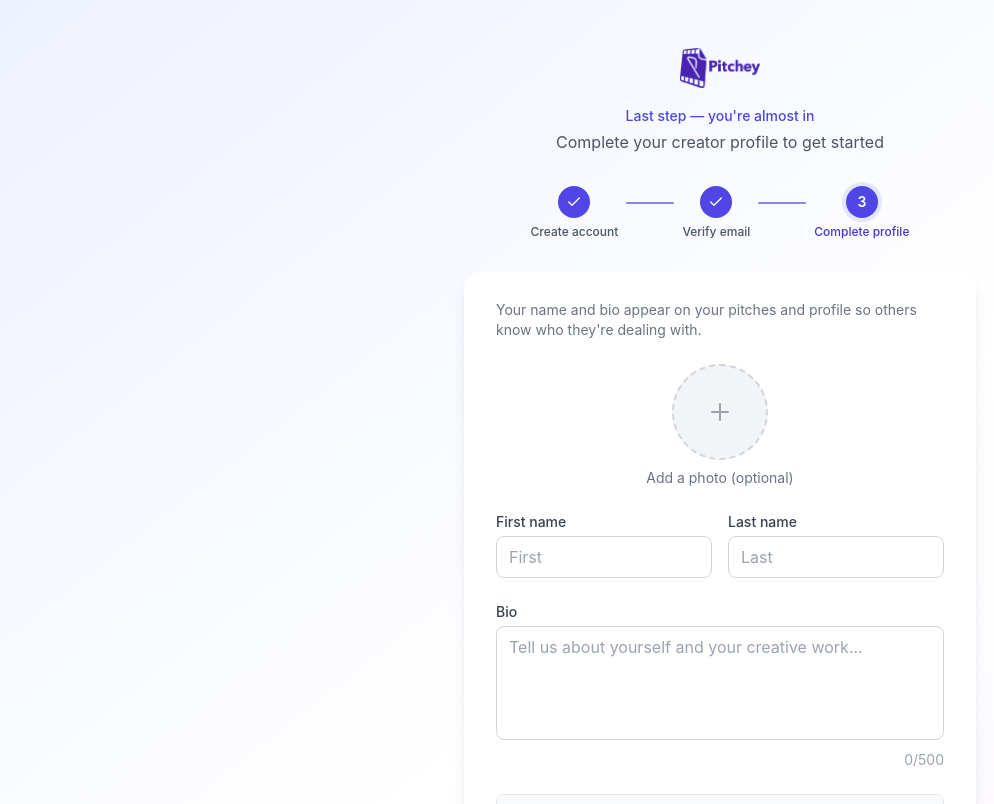
CreatorOnboardingPage (OnboardingPage) › Error state › shows error message when profile update fails
Type "Jane" into the field labelled "First name" at [604, 557], box top-left (496, 536), bottom-right (712, 578)
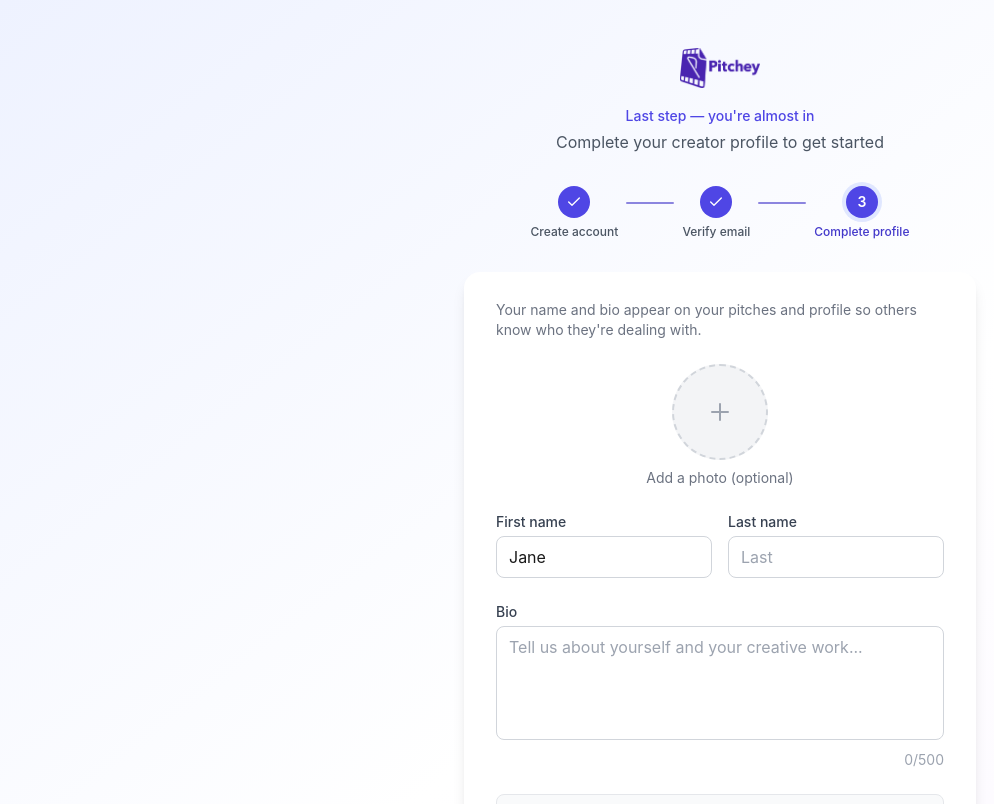
Type "Smith" into the field labelled "Last name" at [836, 557], box top-left (728, 536), bottom-right (944, 578)
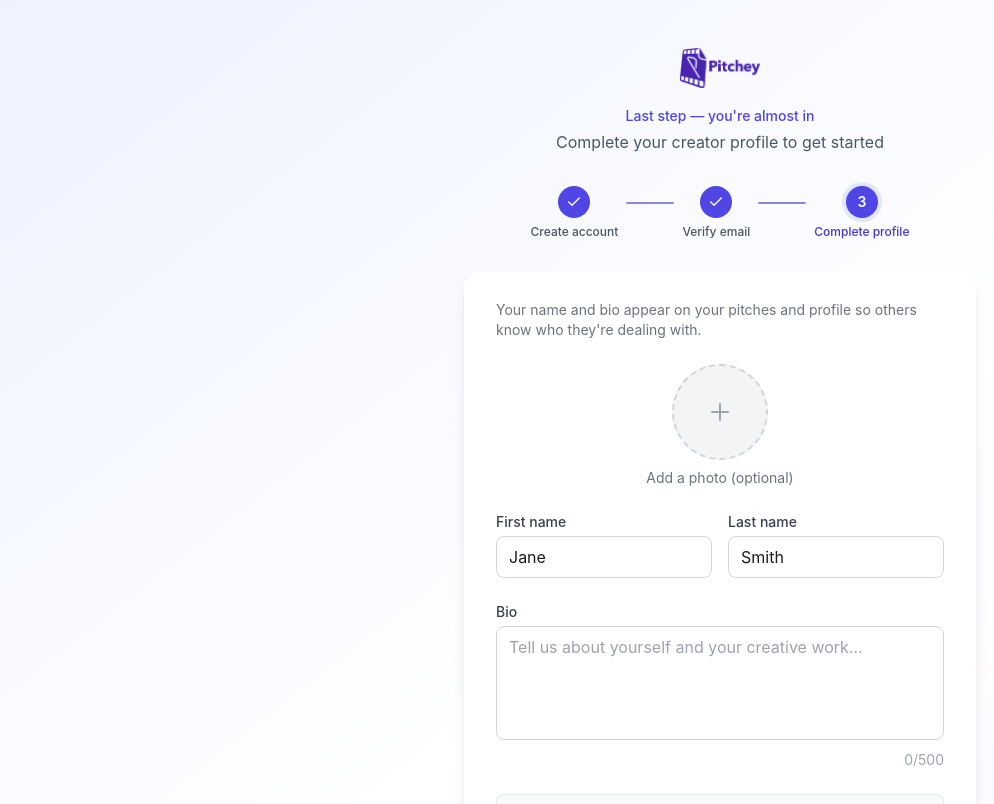
Type "Experienced director." into the text box labelled "Bio" at [720, 683], box top-left (496, 626), bottom-right (944, 740)
(page scrolled)
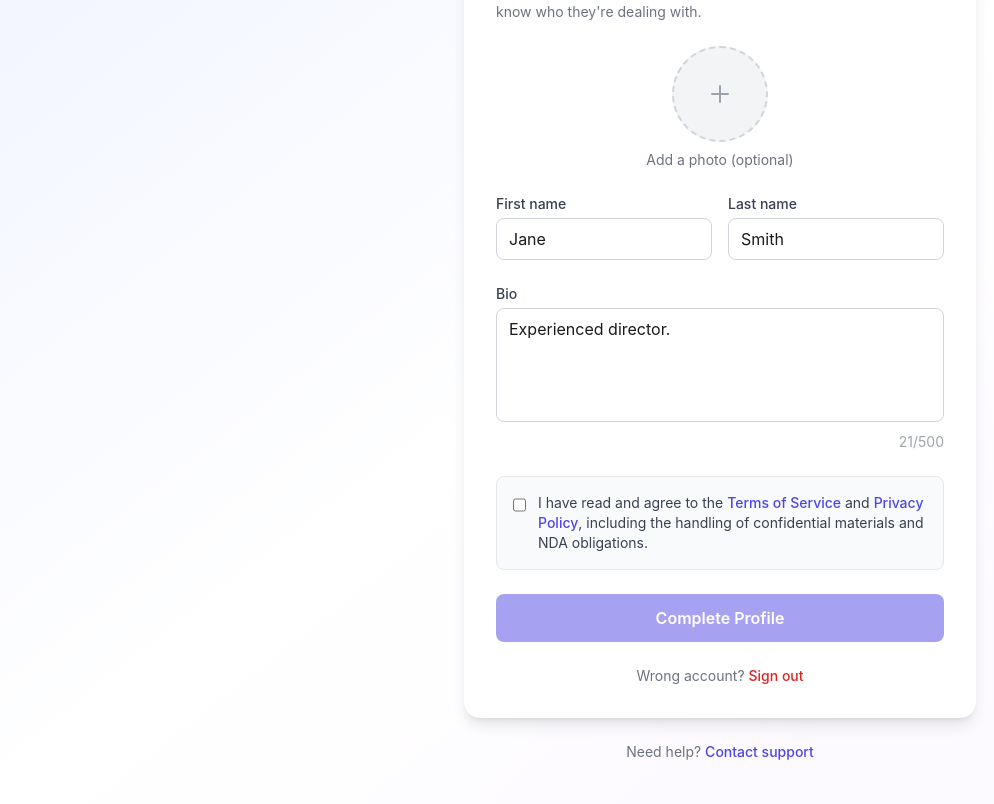
Click the checkbox at [520, 505], box top-left (513, 495), bottom-right (526, 515)
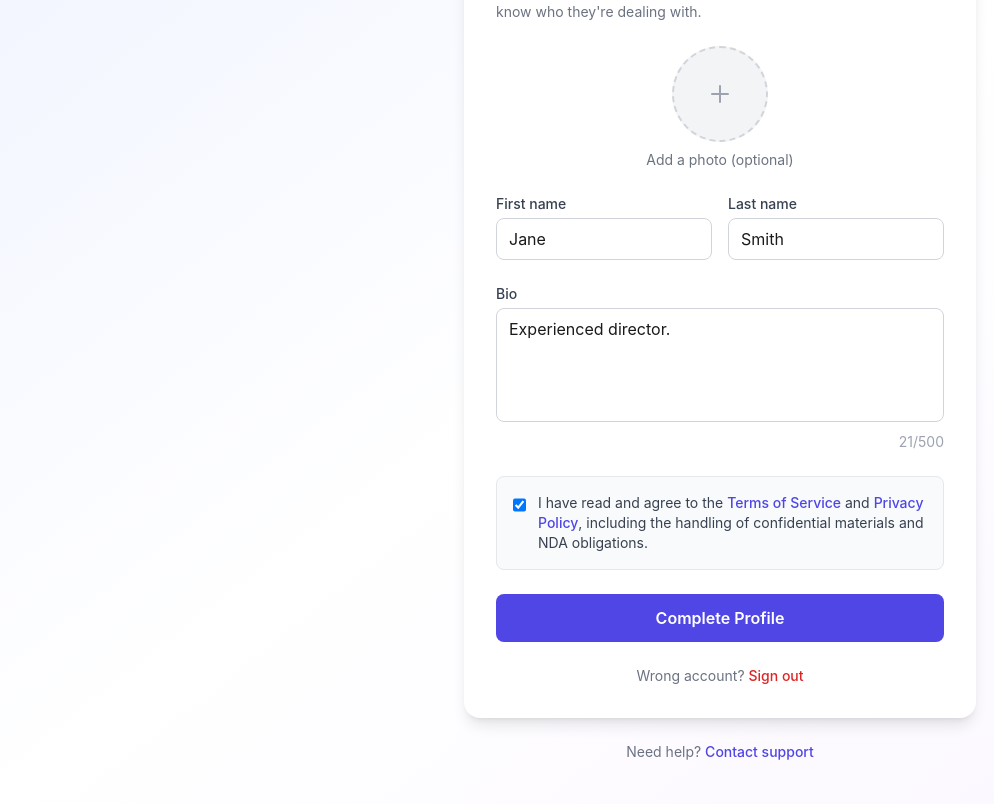
Click the button "Complete Profile" at [720, 618], box top-left (496, 594), bottom-right (944, 642)
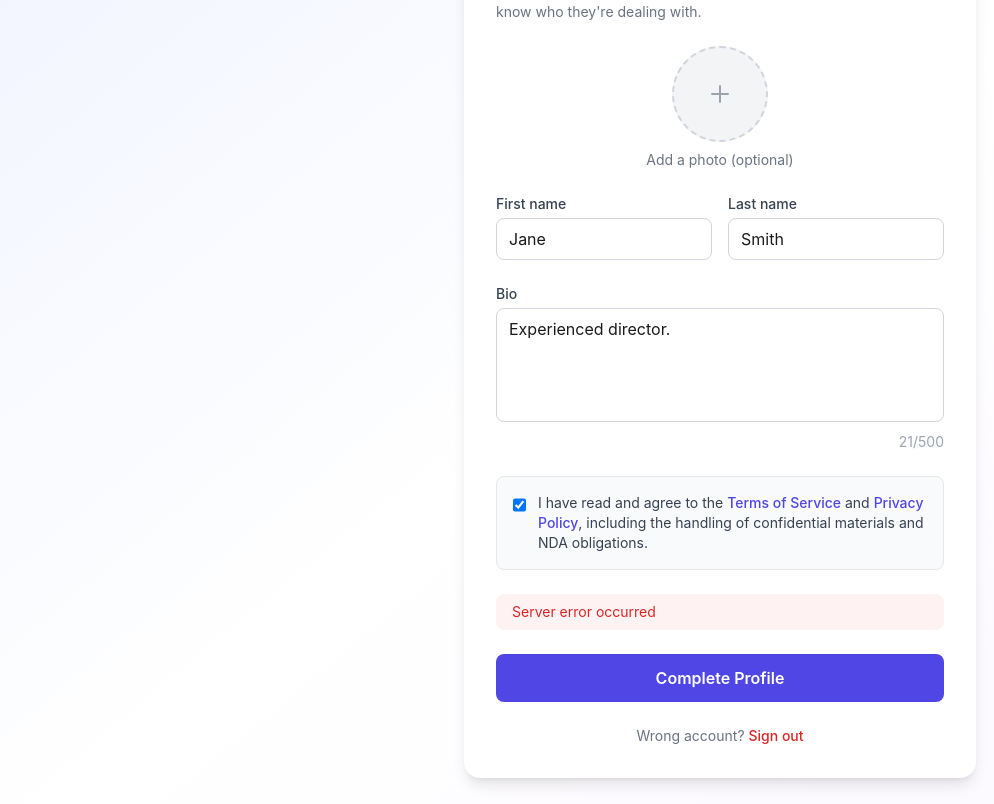
Expected: the text "Server error occurred" is shown, top-left (496, 594), bottom-right (944, 630)
